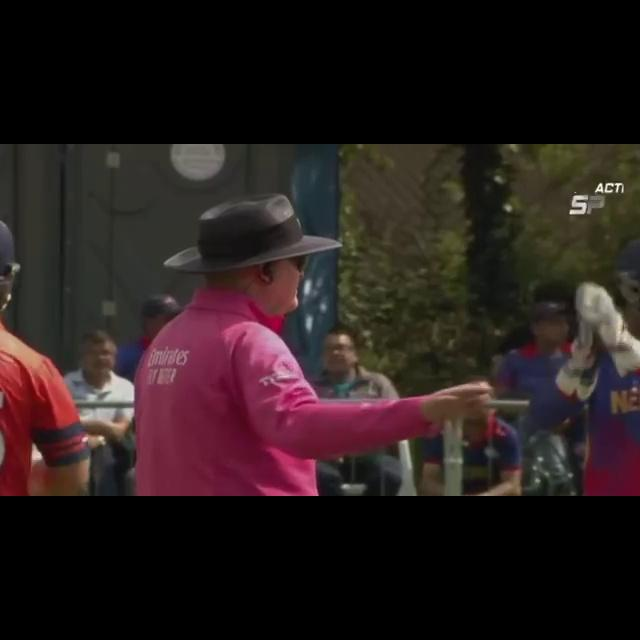umpire: (117, 187, 508, 496)
